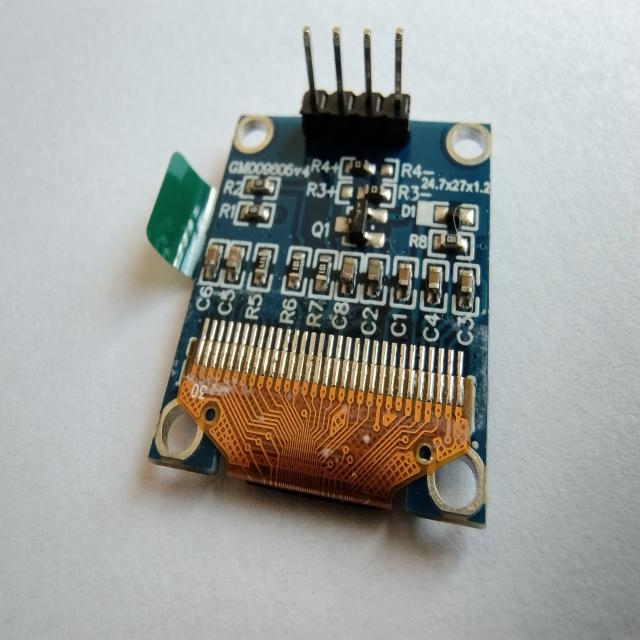oled: (146, 21, 506, 548)
